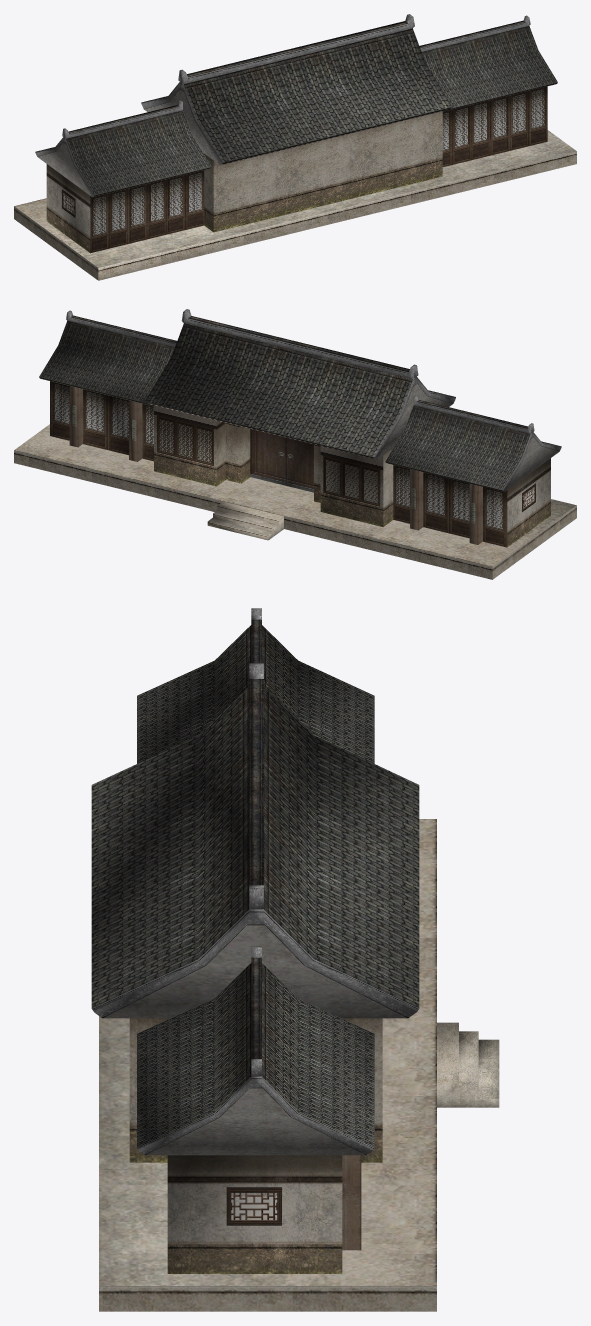
File: cj_rich2_buil04.glb
The picture shows the model from 3 angles, top to bottom: view 1: azimuth 30°, elevation 25°; view 2: azimuth 150°, elevation 25°; view 3: azimuth 270°, elevation 25°; orthographic projection. The views are drawn at different scales.
Parts seen in each view (by area): view 1: CJ_rich2_buil04_roof, CJ_rich2_buil04_wall01, CJ_rich2_buil04_floor; view 2: CJ_rich2_buil04_roof, CJ_rich2_buil04_floor, CJ_rich2_buil04_wall01, CJ_rich2_buil04_wall02; view 3: CJ_rich2_buil04_roof, CJ_rich2_buil04_floor, CJ_rich2_buil04_wall01.
Boxes of the visible parts, left/top/right/bottom form: CJ_rich2_buil04_roof: left=35, top=14, right=557, bottom=197; CJ_rich2_buil04_wall01: left=46, top=86, right=547, bottom=253; CJ_rich2_buil04_floor: left=14, top=130, right=576, bottom=280; CJ_rich2_buil04_roof: left=39, top=309, right=561, bottom=491; CJ_rich2_buil04_floor: left=14, top=424, right=576, bottom=579; CJ_rich2_buil04_wall01: left=50, top=381, right=550, bottom=547; CJ_rich2_buil04_wall02: left=154, top=405, right=383, bottom=526; CJ_rich2_buil04_roof: left=91, top=608, right=419, bottom=1155; CJ_rich2_buil04_floor: left=99, top=819, right=499, bottom=1311; CJ_rich2_buil04_wall01: left=129, top=1018, right=382, bottom=1273.
Size of the model in its own units: 18.88 by 5.67 by 6.97.
4 materials, 4 textured.
